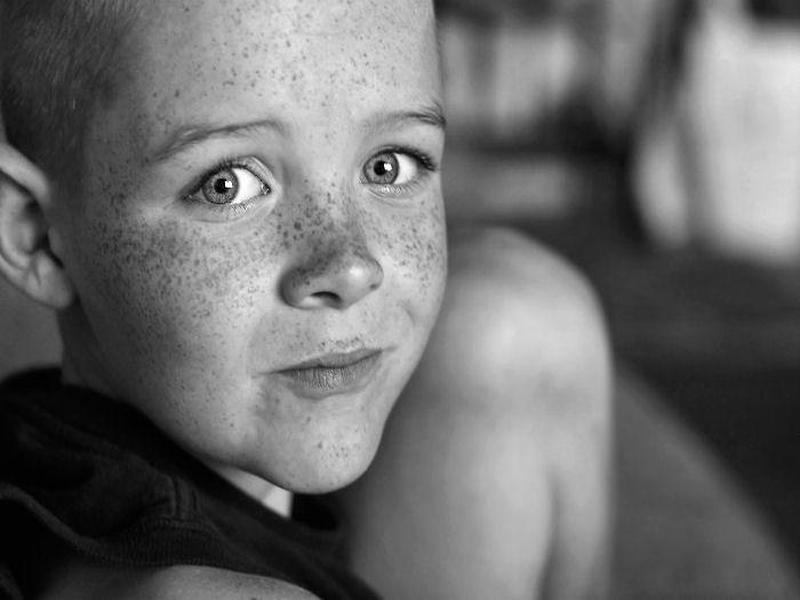person: (1, 1, 615, 600)
